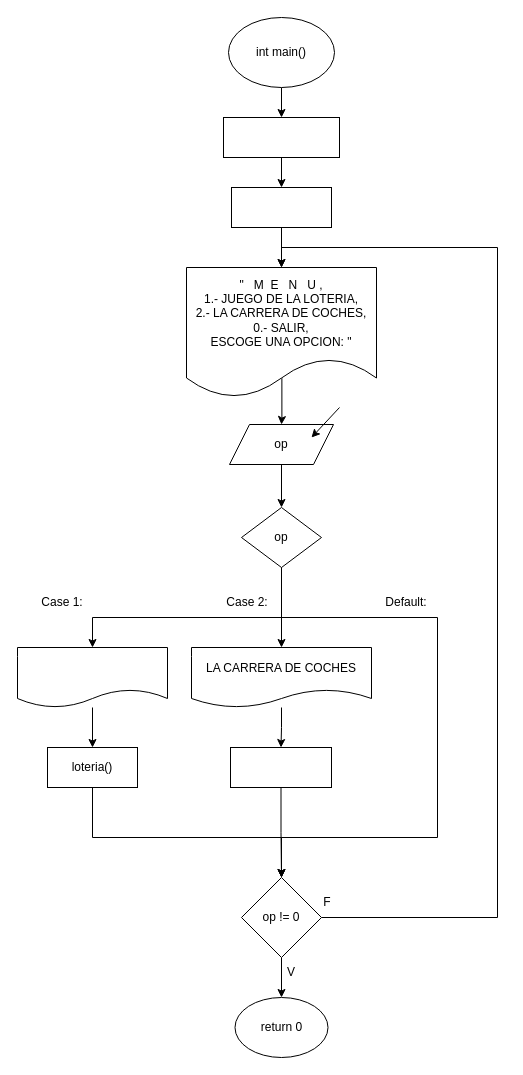
This 523x1075 diagram has some shape labels left out. The shapes that lost their labels are listed below. From the top down, each one's centre as x and y in pixels, then its label:
At point (281, 137): "srand(time(NULL))".
At point (281, 207): "int op".
At point (92, 677): "JUEGO DE LA LOTERIA".
At point (281, 767): "iniciarCarrera()".
